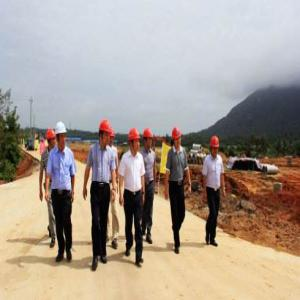red: (99, 120, 111, 147), (129, 128, 141, 154), (171, 125, 183, 149), (143, 127, 154, 151), (47, 128, 58, 151), (211, 135, 221, 158)
white: (55, 122, 68, 150)
